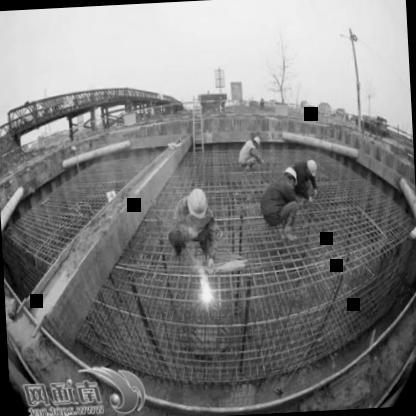helmet: (184, 185, 210, 228), (278, 162, 299, 186), (303, 154, 320, 178), (250, 132, 262, 148)
